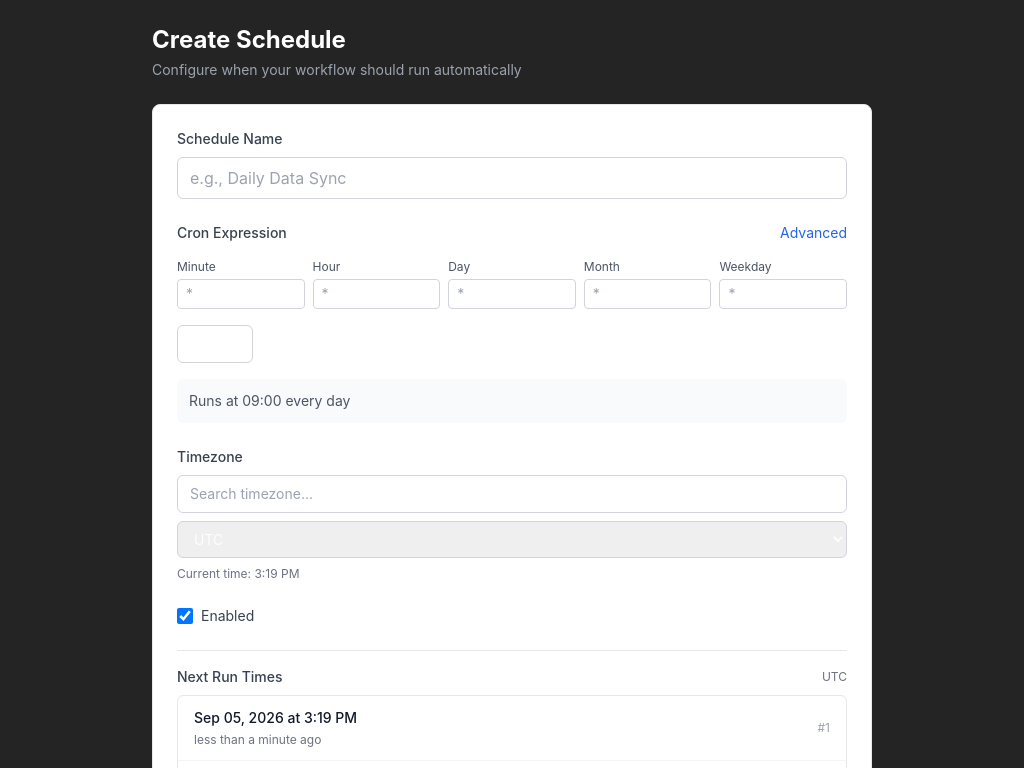
Test: CreateSchedule › Schedule Creation › should show error message on creation failure
Type "Test Schedule" into the field labelled "Schedule Name" at (512, 178), box left=177, top=157, right=847, bottom=199
(page scrolled)
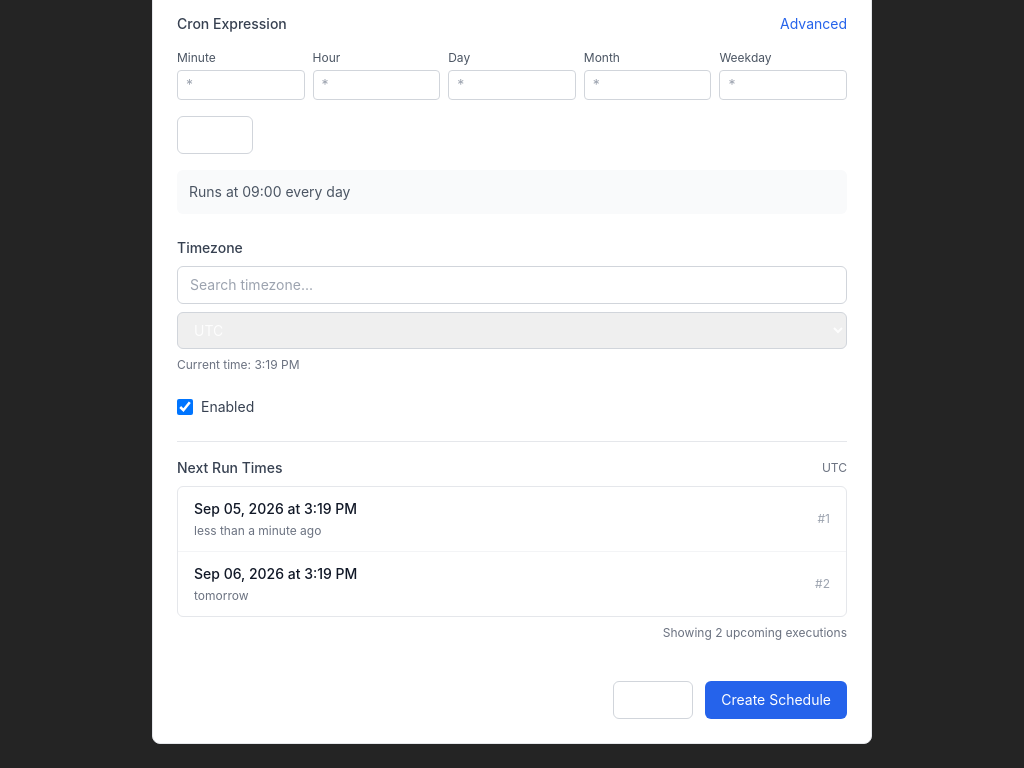
Click the button "Create Schedule" at (776, 700), box left=705, top=681, right=847, bottom=719
(page scrolled)
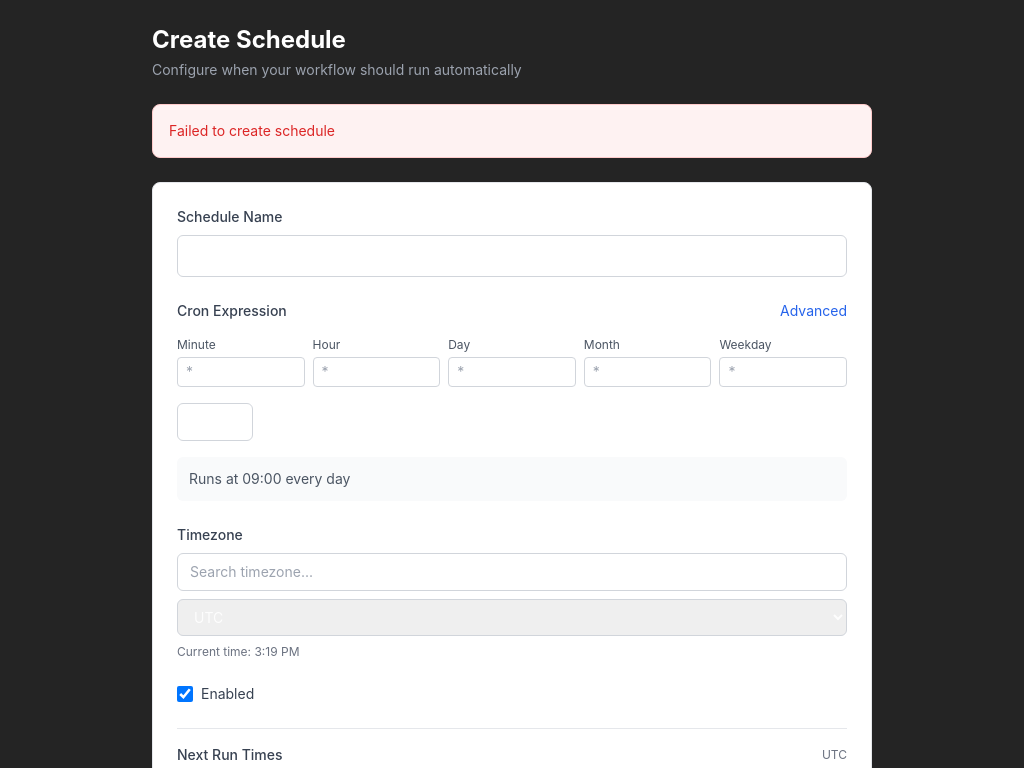
Now the text "Failed to create schedule" is shown, box left=169, top=122, right=335, bottom=139
